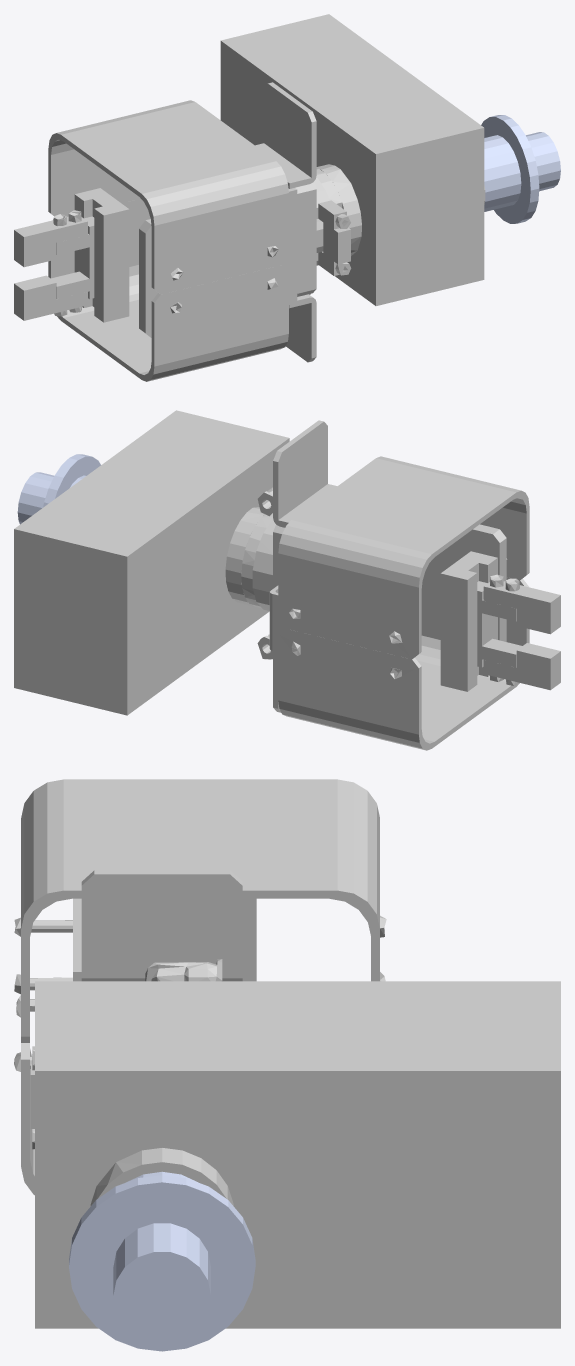
Rendered from rarm_joint5_link_mesh.dae.
The picture shows the model from 3 angles, top to bottom: view 1: azimuth 30°, elevation 25°; view 2: azimuth 150°, elevation 25°; view 3: azimuth 270°, elevation 25°; orthographic projection. The views are drawn at different scales.
Visible parts, largest first — view 1: RARM_JOINT5_Link (×2); view 2: RARM_JOINT5_Link (×2); view 3: RARM_JOINT5_Link (×2).
Boxes of the visible parts, bbox=[...] form: RARM_JOINT5_Link (×2): bbox=[14, 14, 560, 381]; RARM_JOINT5_Link (×2): bbox=[14, 410, 560, 750]; RARM_JOINT5_Link (×2): bbox=[14, 779, 560, 1351].
Bounding box in the file's own units: 0.237 × 0.11 × 0.1289.
